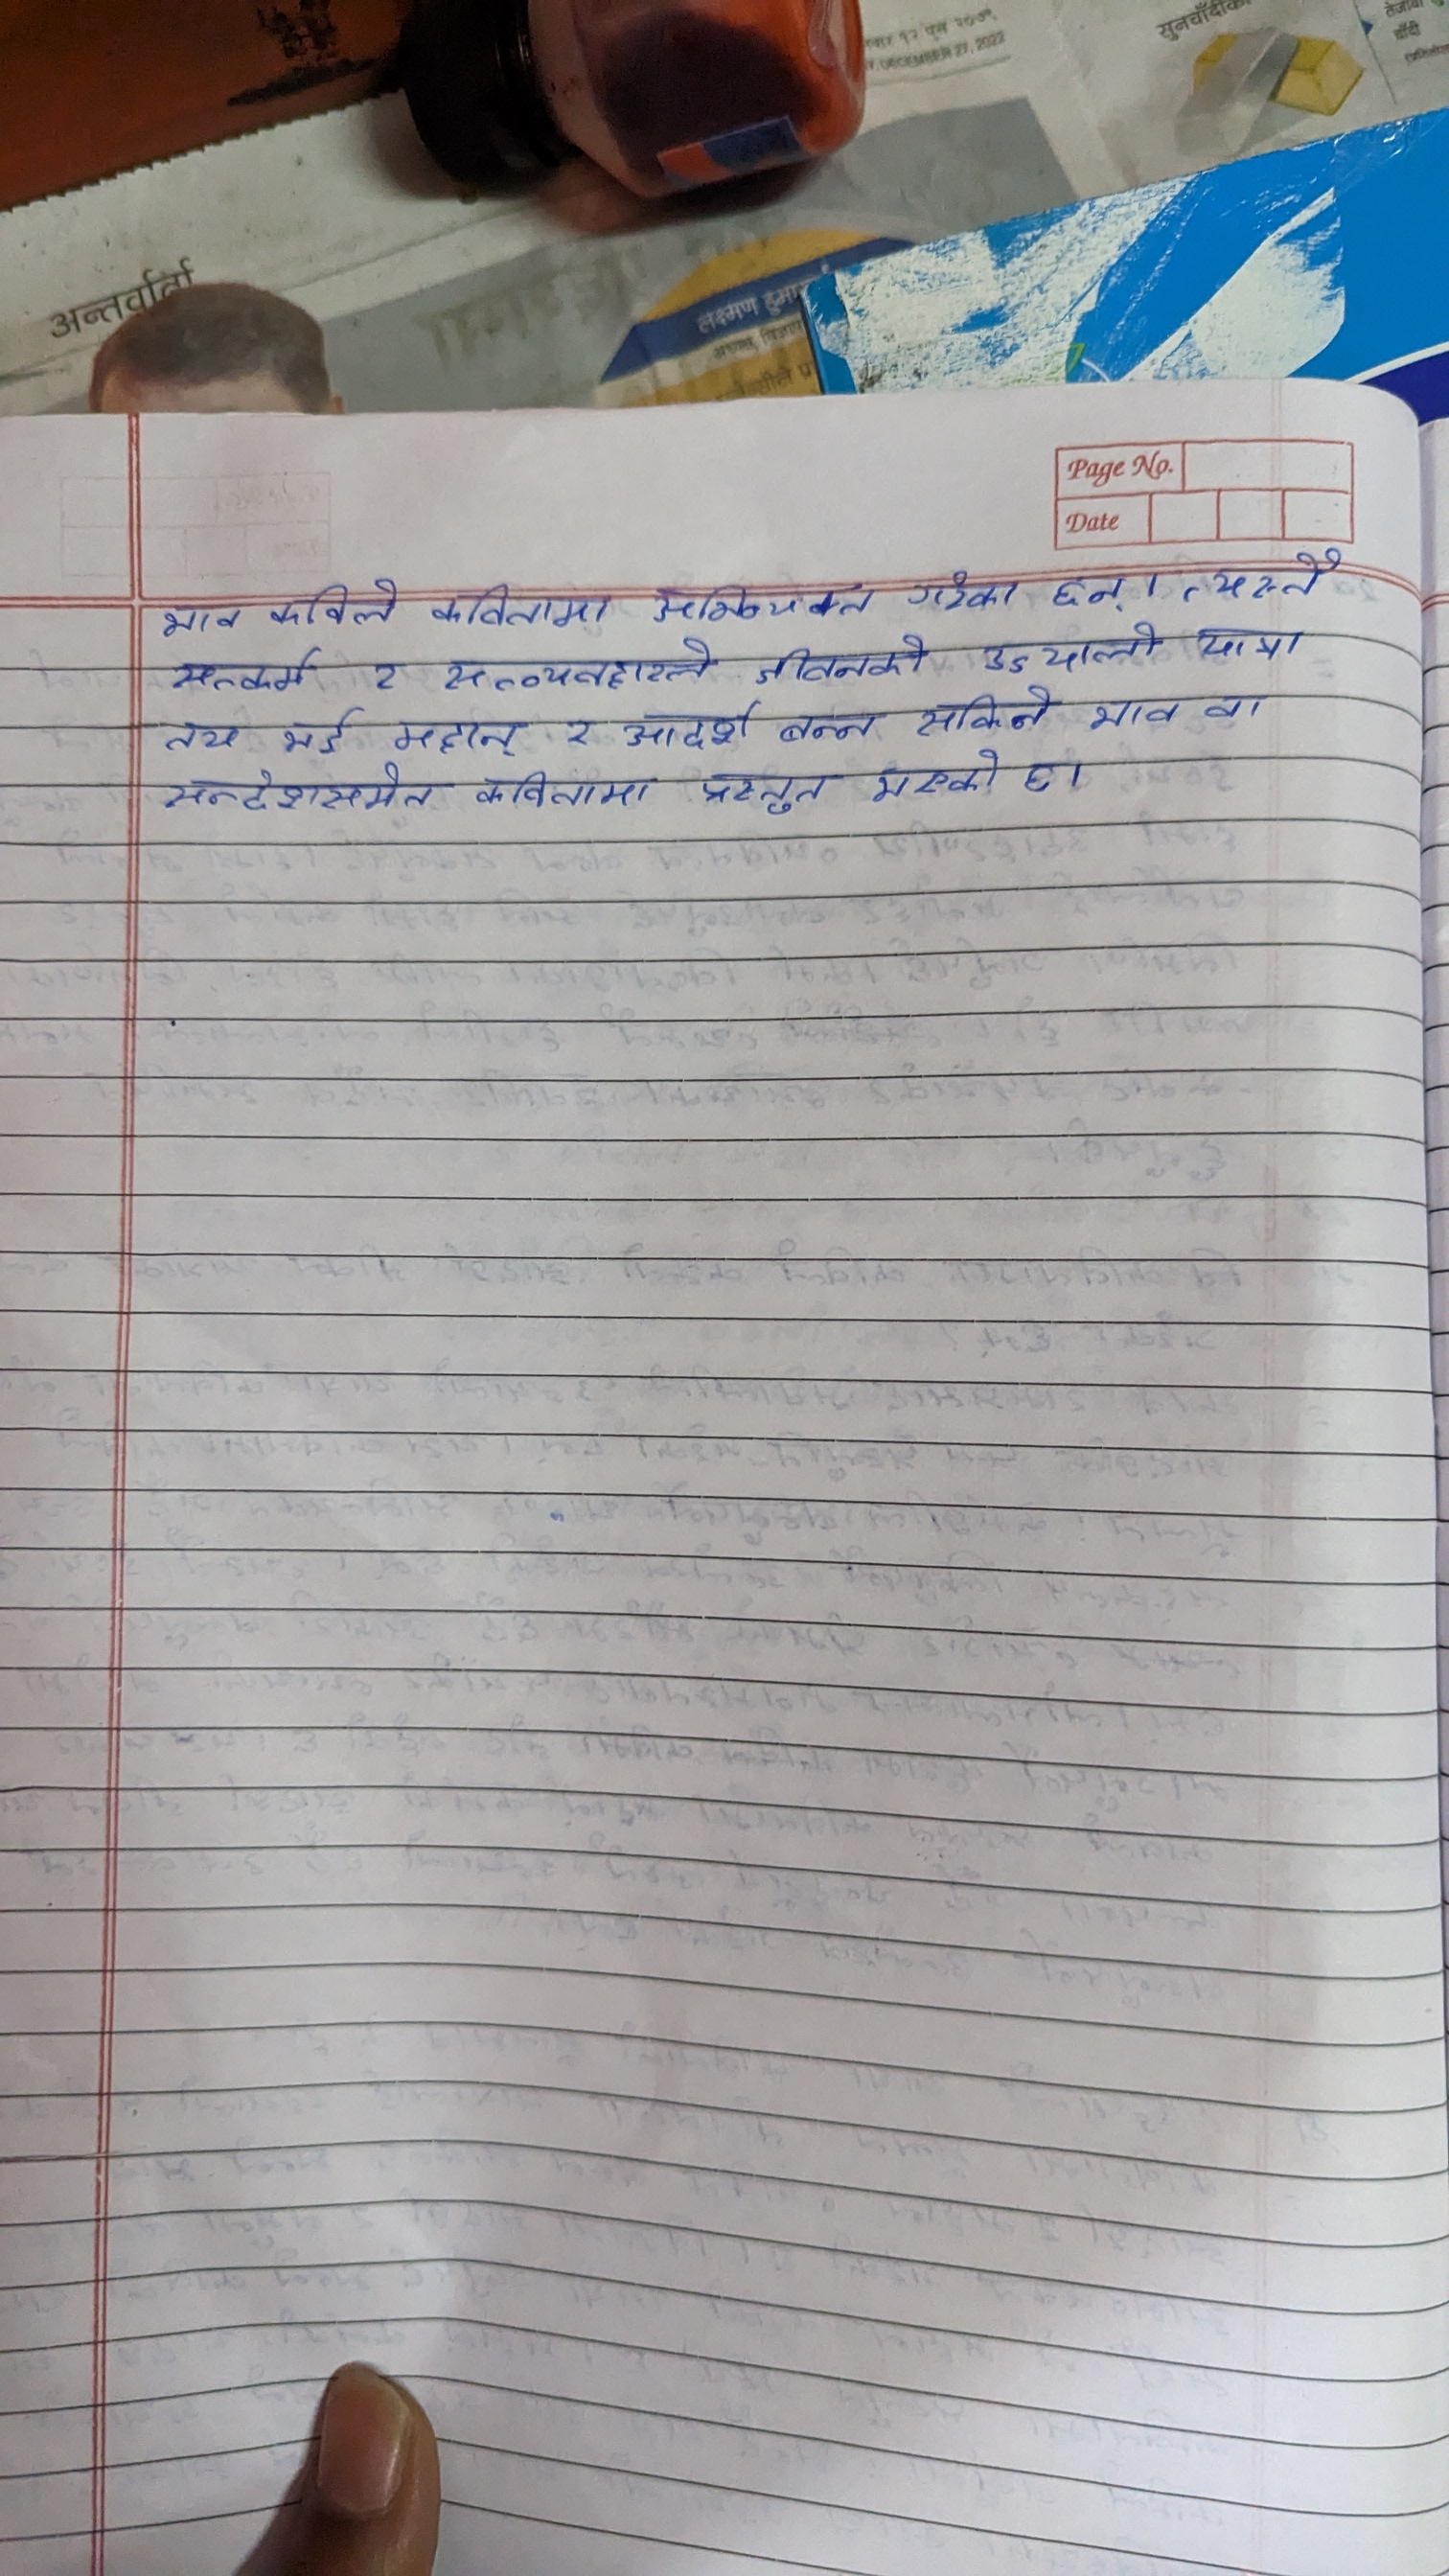text: (157, 764, 441, 823), (437, 635, 720, 694), (646, 571, 885, 630), (982, 616, 1162, 679), (426, 573, 614, 633), (1175, 545, 1362, 605), (469, 770, 651, 823), (747, 635, 938, 685), (619, 699, 764, 759), (904, 688, 1053, 745), (262, 577, 414, 632), (386, 706, 538, 761), (1182, 616, 1323, 672), (862, 748, 1003, 803), (688, 766, 830, 821), (163, 649, 313, 694), (258, 702, 375, 757), (1090, 692, 1182, 740), (778, 701, 878, 743), (157, 596, 244, 642), (157, 711, 246, 755), (1198, 688, 1267, 741), (361, 653, 414, 699), (1016, 755, 1062, 807), (554, 713, 605, 757)
